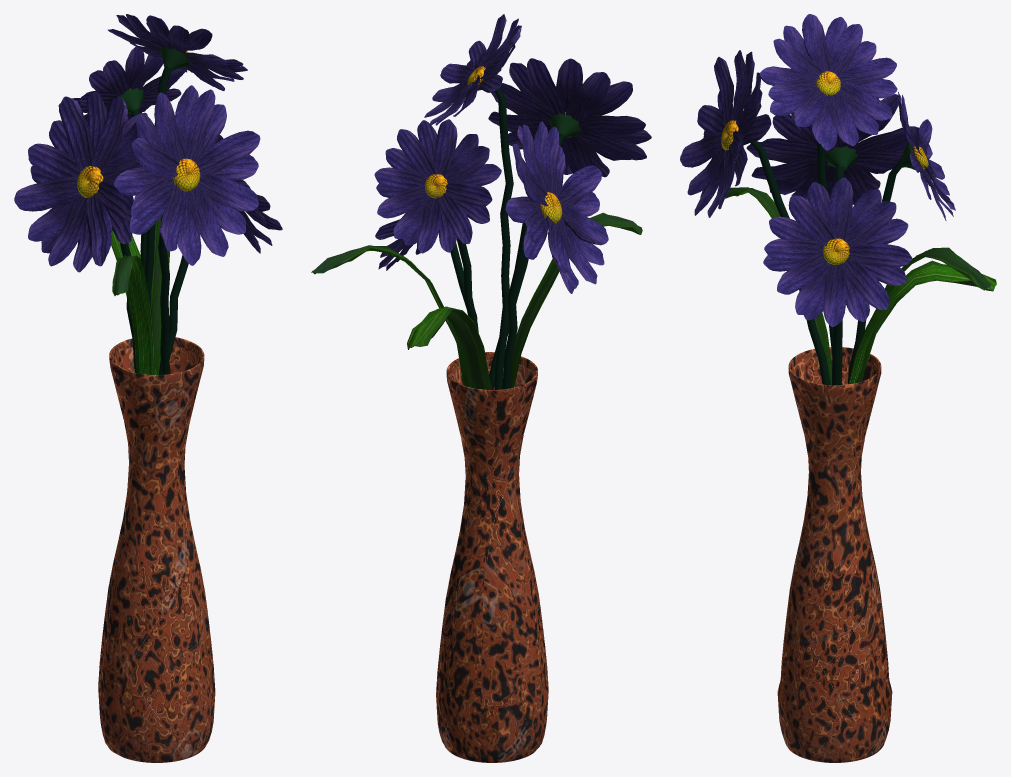
The model's file is flower_vase.fbx.
The picture shows the model from 3 angles, left to right: view 1: azimuth 30°, elevation 25°; view 2: azimuth 150°, elevation 25°; view 3: azimuth 270°, elevation 25°; orthographic projection. The views are drawn at different scales.
Visible parts, largest first — view 1: nurbsToPoly1, pPlane10 (×3), pPlane48, pPlane13 (×2), pPlane4 (×2), pPlane14 (×2), pPlane2 (×2), pPlane12 (×2), pPlane1 (×2), pPlane5 (×4), pPlane11 (×2), pCylinder2 (×2) (+11 smaller); view 2: nurbsToPoly1, pCylinder1 (×3), pPlane47, pPlane10 (×3), pPlane12 (×2), pPlane13 (×2), pPlane48, pPlane14 (×2), pPlane2 (×2), pPlane11 (×2), pPlane3 (×2), pPlane4 (×2) (+9 smaller); view 3: nurbsToPoly1, pPlane10 (×3), pPlane2 (×3), pPlane4 (×3), pPlane14 (×3), pPlane11 (×3), pPlane1 (×3), pPlane13 (×2), pPlane12 (×2), pPlane3 (×3), pPlane15 (×3), pPlane7 (×3) (+12 smaller).
Boxes of the visible parts, <box> form: nurbsToPoly1: <box>98,337,215,762</box>; pPlane10 (×3): <box>92,47,186,171</box>; pPlane48: <box>112,255,155,374</box>; pPlane13 (×2): <box>84,173,258,266</box>; pPlane4 (×2): <box>14,176,186,251</box>; pPlane14 (×2): <box>48,185,228,266</box>; pPlane2 (×2): <box>59,96,178,177</box>; pPlane12 (×2): <box>96,130,260,220</box>; pPlane1 (×2): <box>28,143,172,220</box>; pPlane5 (×4): <box>86,25,189,153</box>; pPlane11 (×2): <box>100,89,215,182</box>; pCylinder2 (×2): <box>158,216,188,374</box>; nurbsToPoly1: <box>436,352,548,762</box>; pCylinder1 (×3): <box>457,87,526,389</box>; pPlane47: <box>407,306,491,389</box>; pPlane10 (×3): <box>433,58,582,192</box>; pPlane12 (×2): <box>446,165,601,207</box>; pPlane13 (×2): <box>439,193,608,245</box>; pPlane48: <box>510,212,642,388</box>; pPlane14 (×2): <box>417,197,597,284</box>; pPlane2 (×2): <box>397,81,632,179</box>; pPlane11 (×2): <box>444,126,559,196</box>; pPlane3 (×2): <box>505,115,645,223</box>; pPlane4 (×2): <box>377,186,567,272</box>; nurbsToPoly1: <box>777,347,892,762</box>; pPlane10 (×3): <box>731,14,853,240</box>; pPlane2 (×3): <box>714,38,834,246</box>; pPlane4 (×3): <box>680,87,829,294</box>; pPlane14 (×3): <box>694,92,858,326</box>; pPlane11 (×3): <box>772,24,896,247</box>; pPlane1 (×3): <box>697,78,822,261</box>; pPlane13 (×2): <box>838,82,892,309</box>; pPlane12 (×2): <box>838,57,912,267</box>; pPlane3 (×3): <box>759,66,919,250</box>; pPlane15 (×3): <box>741,114,908,247</box>; pPlane7 (×3): <box>751,79,906,285</box>.
Size of the model in its own units: 5.83 by 19.01 by 7.57.
Materials: 6 (4 with a texture image).
